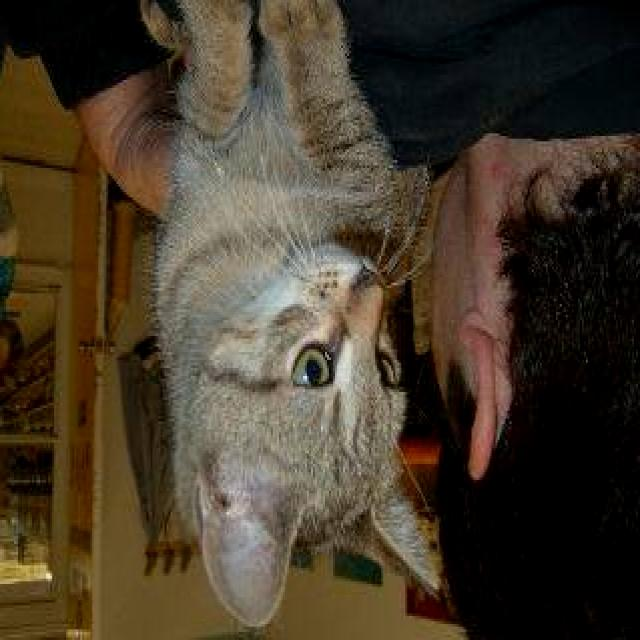Kucing: (136, 0, 451, 613)
